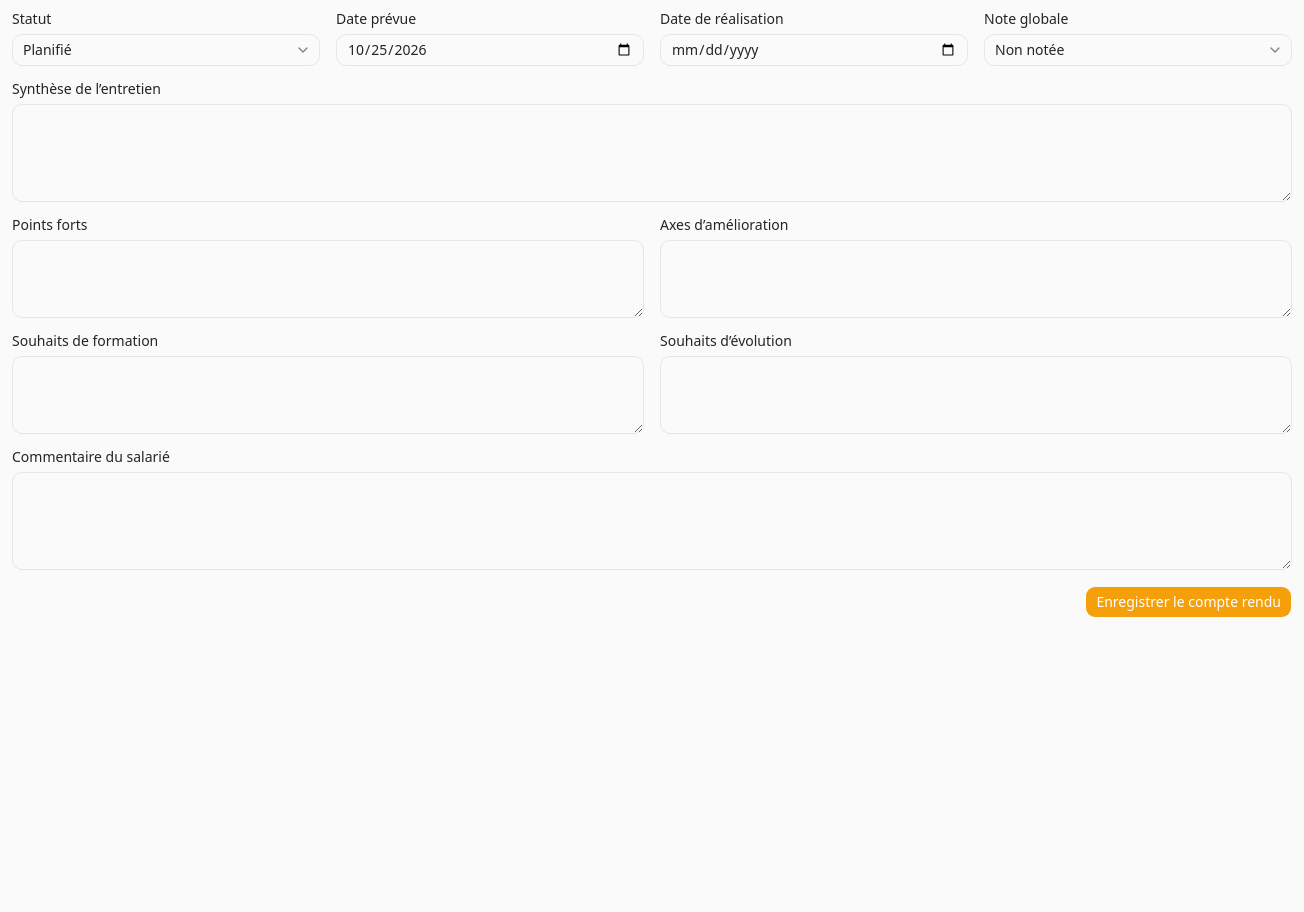
Test: CompteRenduForm › affiche l’erreur serveur
The width and height of the screenshot is (1304, 912).
Click the button "Enregistrer le compte rendu". click: (1189, 602)
box: x1=1085 y1=586 x2=1292 y2=618
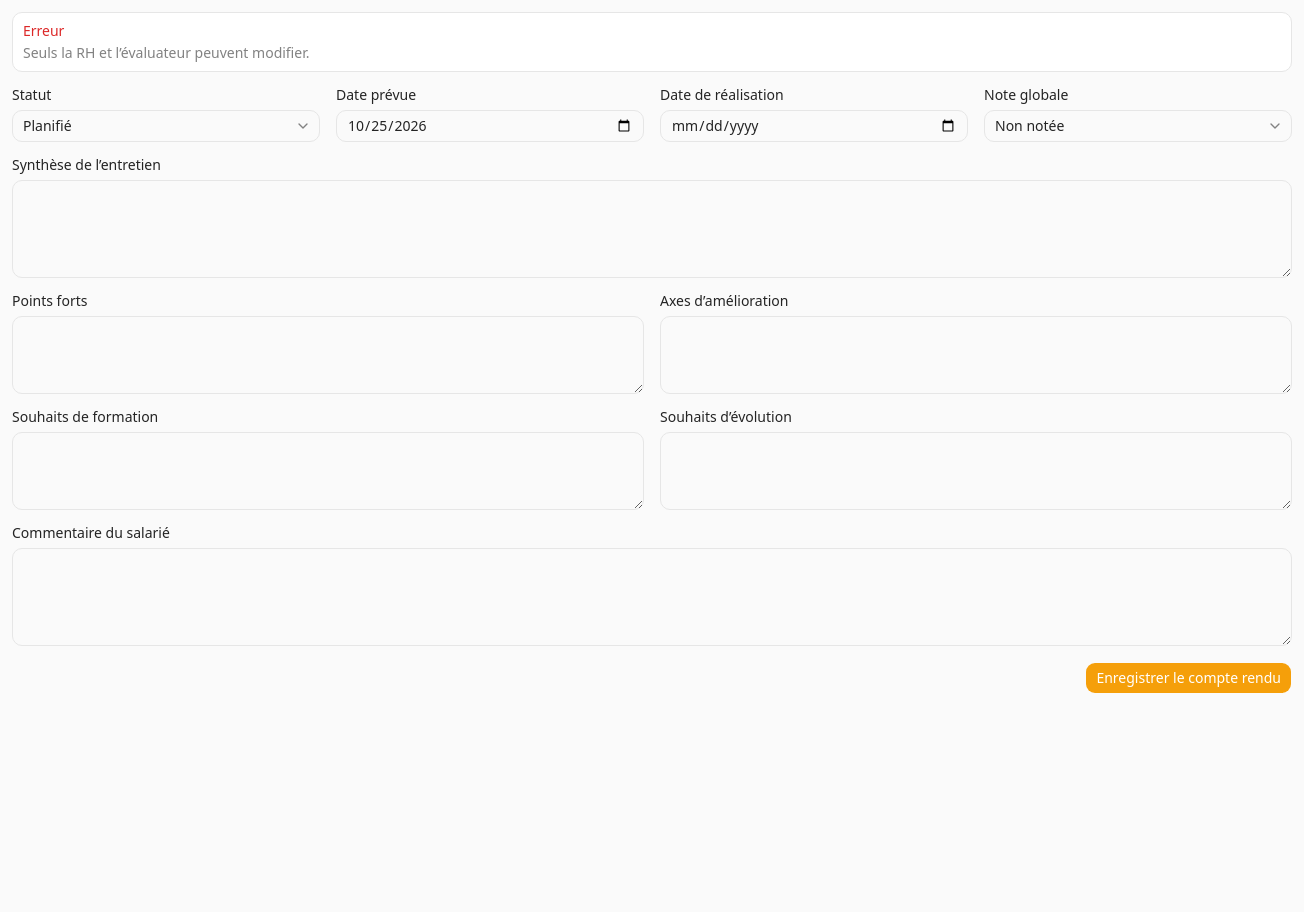
Result: the text "Seuls la RH et l’évaluateur peuvent modifier." is shown at x1=23 y1=43 x2=310 y2=62
